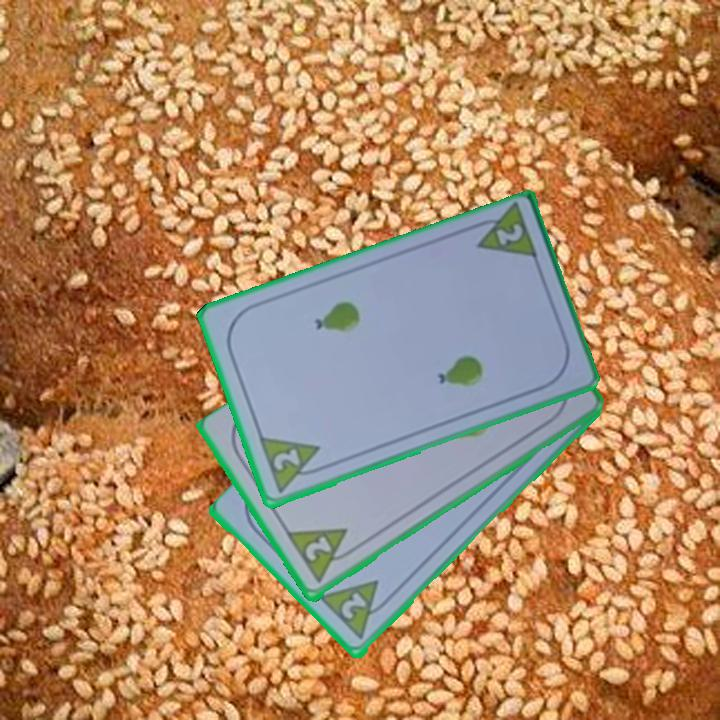2p: (316, 576, 396, 644), (255, 433, 329, 497), (301, 533, 335, 565), (492, 220, 526, 249)
